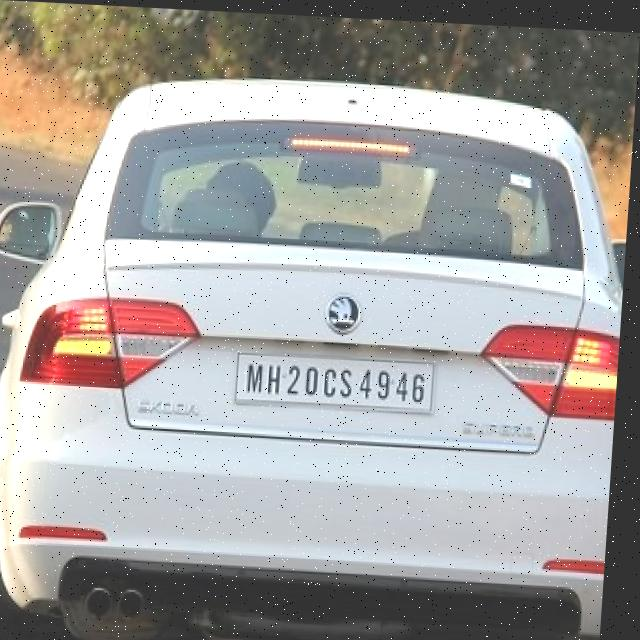plate: (244, 347, 443, 409)
